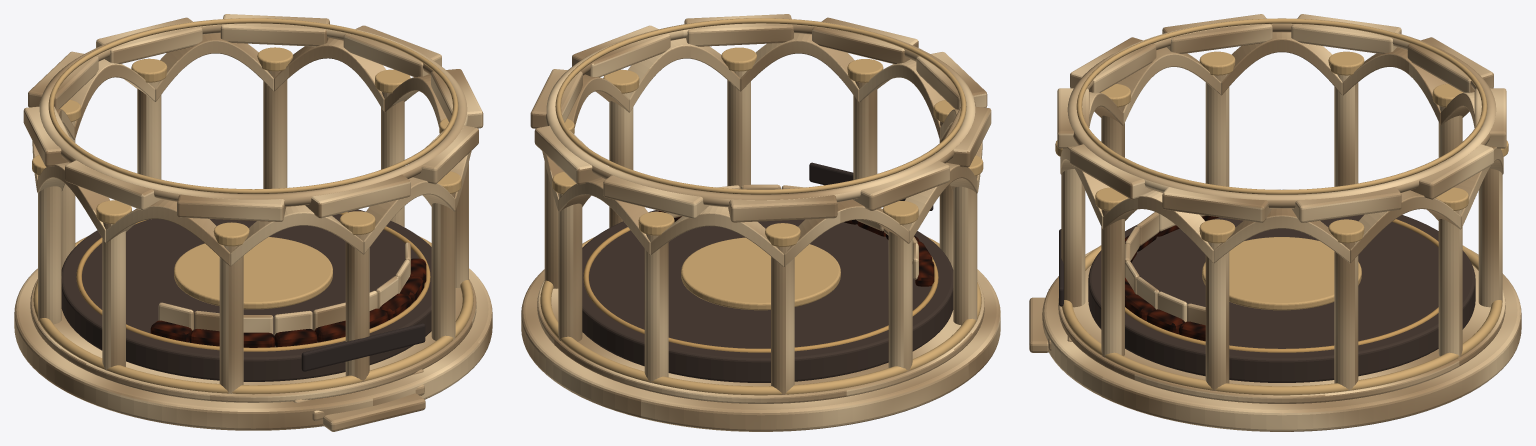
The model's file is forum.glb.
The picture shows the model from 3 angles, left to right: view 1: azimuth 30°, elevation 25°; view 2: azimuth 150°, elevation 25°; view 3: azimuth 270°, elevation 25°; orthographic projection.
Parts seen in each view (by area): view 1: ASSET_FORUM_PaleTravertine, ASSET_FORUM_ForumWarmStone, ASSET_FORUM_ForumChampagne, ForumRecessedStage, ASSET_FORUM_DarkTeak, ForumRuntimePlaque, ForumInnerTrim; view 2: ASSET_FORUM_PaleTravertine, ASSET_FORUM_ForumWarmStone, ForumRecessedStage, ASSET_FORUM_ForumChampagne, ForumInnerTrim, ASSET_FORUM_DarkTeak, ForumRuntimePlaque; view 3: ASSET_FORUM_PaleTravertine, ASSET_FORUM_ForumWarmStone, ForumRecessedStage, ASSET_FORUM_ForumChampagne, ASSET_FORUM_DarkTeak, ForumInnerTrim.
Part boxes in pixels (box(x1,y1,x2,y2)): ASSET_FORUM_PaleTravertine: box(30, 18, 476, 431); ASSET_FORUM_ForumWarmStone: box(14, 14, 492, 430); ASSET_FORUM_ForumChampagne: box(32, 18, 473, 394); ForumRecessedStage: box(61, 209, 431, 381); ASSET_FORUM_DarkTeak: box(150, 258, 426, 347); ForumRuntimePlaque: box(301, 323, 425, 371); ForumInnerTrim: box(76, 212, 430, 351); ASSET_FORUM_PaleTravertine: box(537, 18, 984, 403); ASSET_FORUM_ForumWarmStone: box(521, 14, 1000, 431); ForumRecessedStage: box(582, 210, 953, 382); ASSET_FORUM_ForumChampagne: box(540, 18, 983, 395); ForumInnerTrim: box(583, 227, 938, 352); ASSET_FORUM_DarkTeak: box(658, 210, 934, 286); ForumRuntimePlaque: box(809, 162, 933, 210); ASSET_FORUM_PaleTravertine: box(1029, 18, 1505, 403); ASSET_FORUM_ForumWarmStone: box(1042, 14, 1521, 431); ForumRecessedStage: box(1088, 214, 1475, 382); ASSET_FORUM_ForumChampagne: box(1055, 18, 1508, 395); ASSET_FORUM_DarkTeak: box(1125, 215, 1218, 341); ForumInnerTrim: box(1125, 219, 1438, 352).
Bounding box in the file's own units: 9.6 × 5.03 × 9.86.
7 materials, 3 textured.
